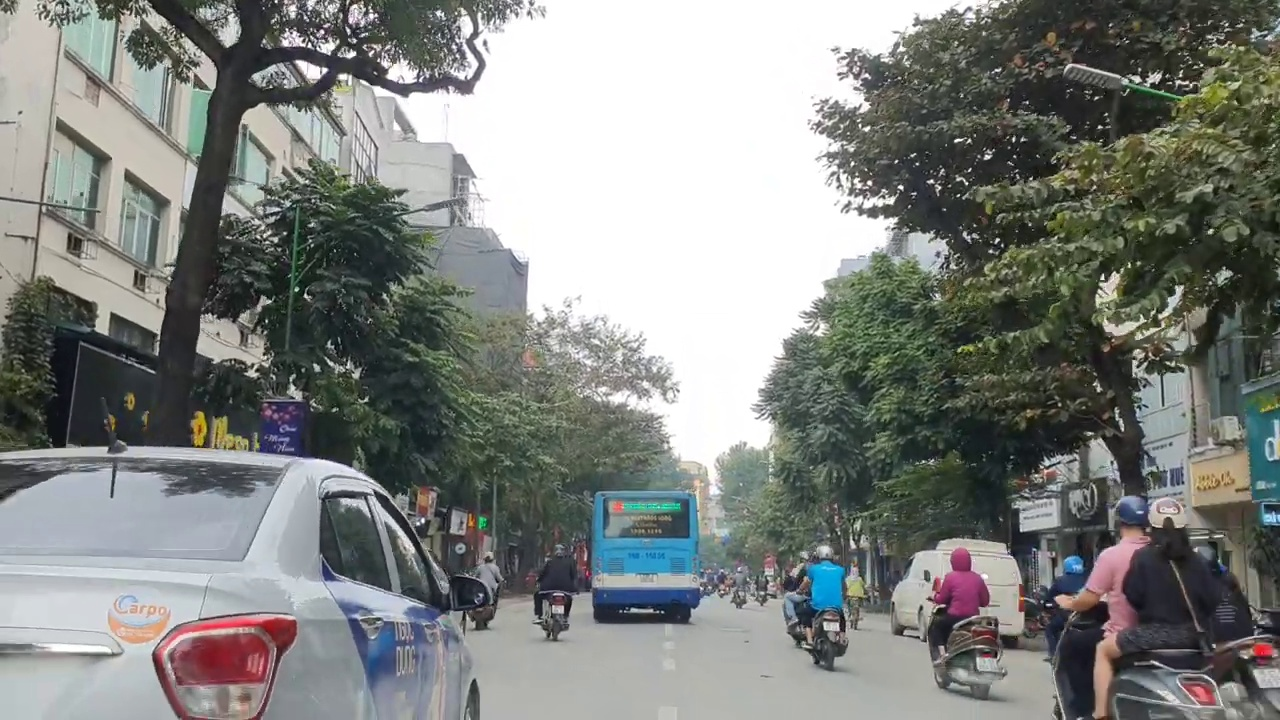vehicle-plate: (979, 648, 1007, 676), (820, 619, 840, 631)
